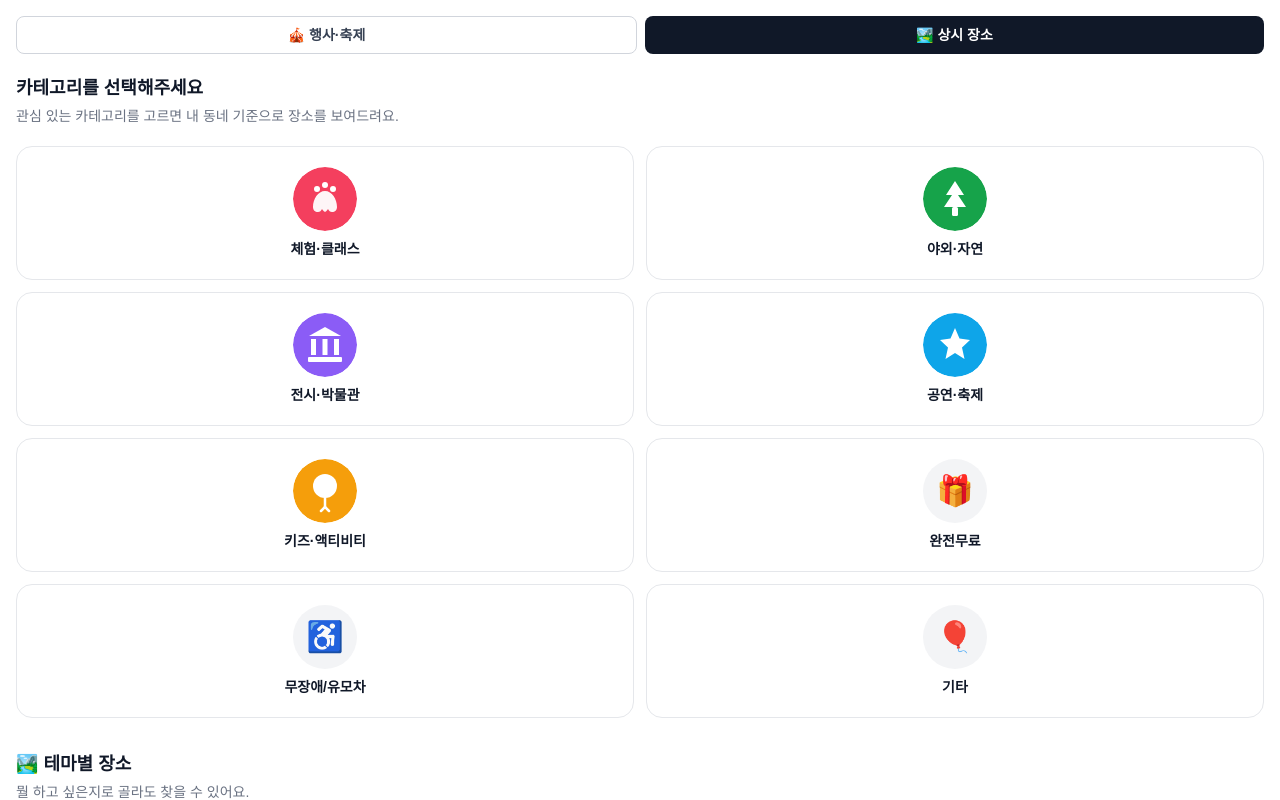
Test: RegionGridView 2단계 탐색 UX (Task 9-1-4) › 카테고리 타일을 클릭하면 2단계로 넘어가 해당 카테고리 리스트만 보여준다
The image size is (1280, 800).
Click the button "키즈·액티비티" at (325, 505), box top-left (16, 438), bottom-right (634, 572)
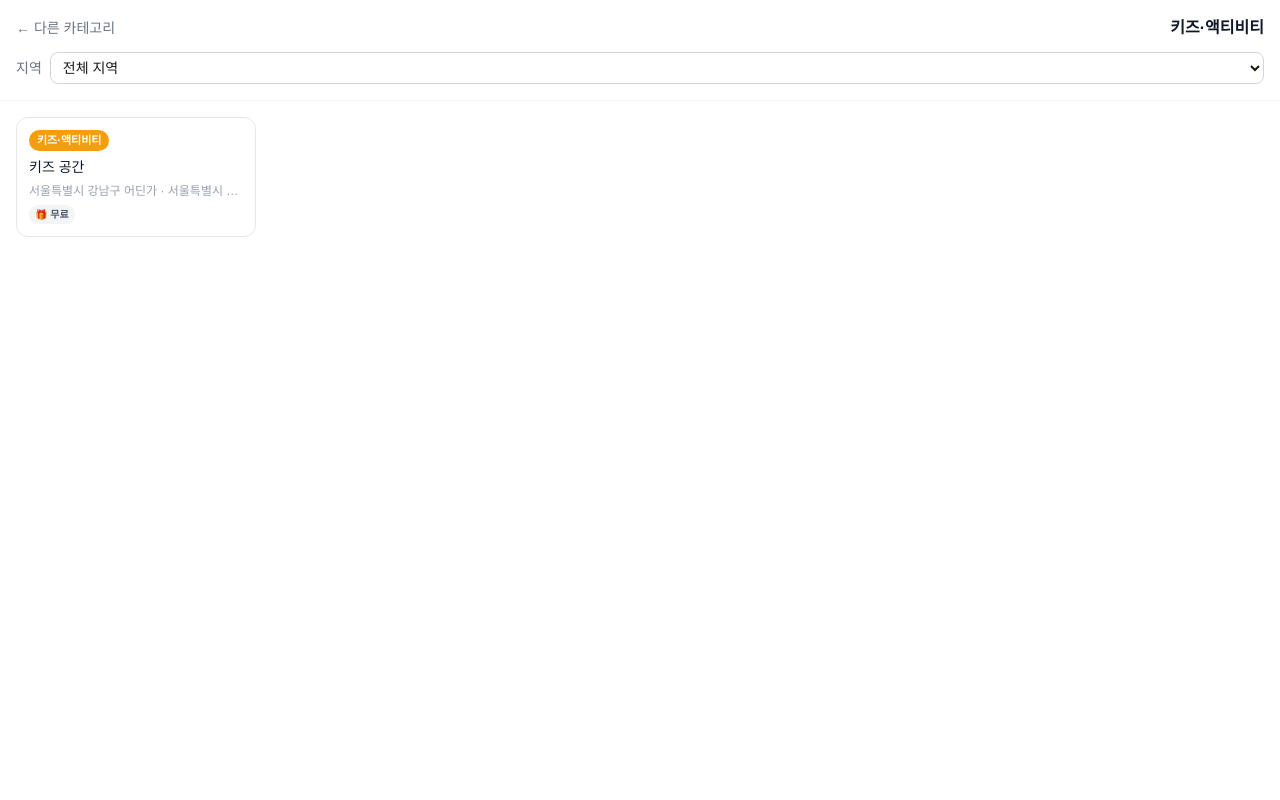
Result: the text "키즈 공간" is shown at top-left (29, 156), bottom-right (84, 176)
Result: the heading "카테고리를 선택해주세요" is gone
